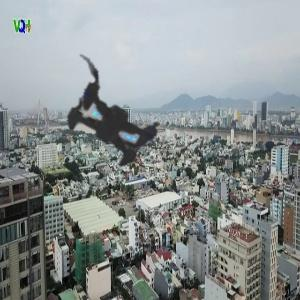drone: (7, 22, 223, 238)
